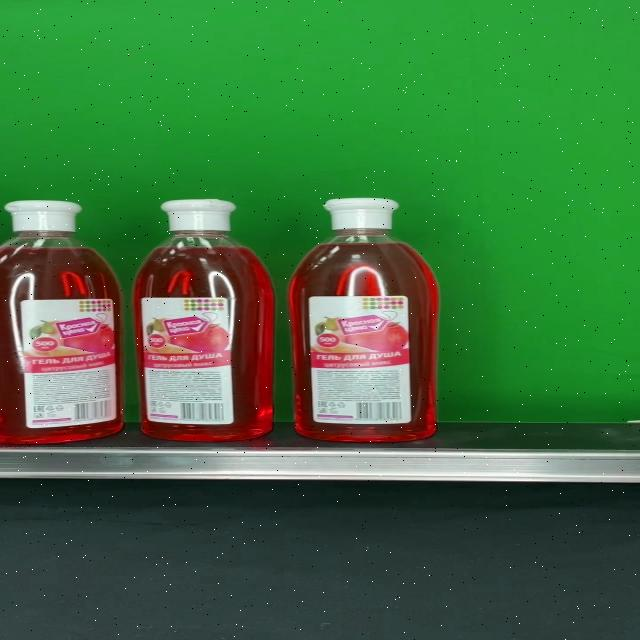Bottle: (289, 198, 441, 441), (132, 200, 274, 441), (0, 201, 123, 445)
Cap: (3, 201, 83, 232), (160, 200, 237, 232), (322, 198, 399, 230)
